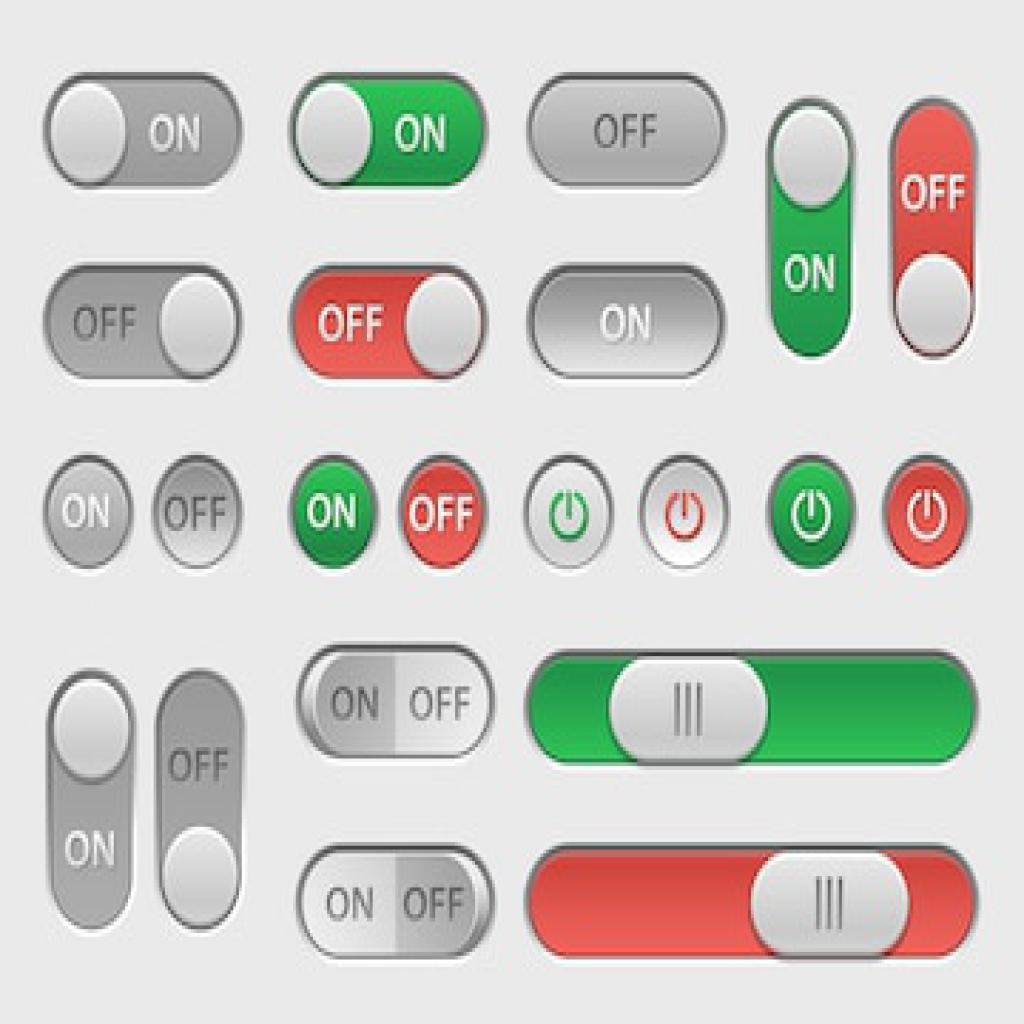button: (525, 262, 731, 382), (525, 70, 729, 191)
slider: (520, 840, 982, 963), (523, 649, 982, 770)
switch: (292, 842, 499, 961), (290, 264, 493, 382), (295, 645, 496, 762), (45, 266, 245, 383), (43, 75, 243, 190), (291, 72, 488, 188)
